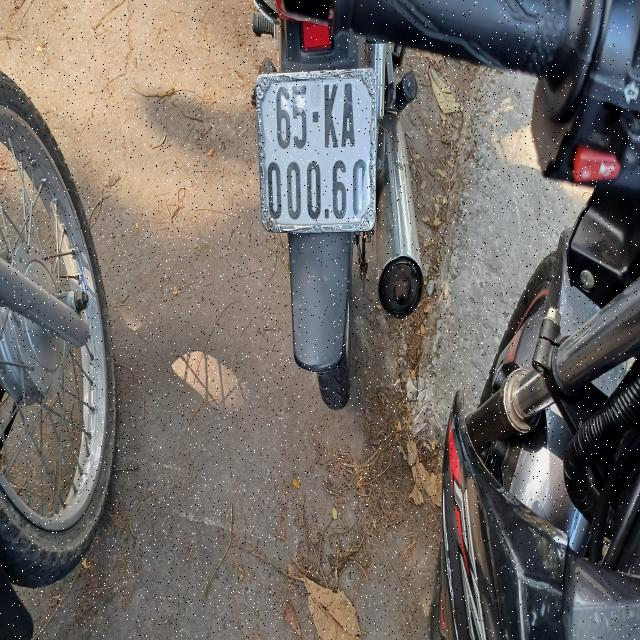0: (286, 160, 303, 222), (266, 162, 284, 220), (306, 158, 322, 220), (353, 159, 368, 219)
5: (292, 85, 308, 149)
6: (273, 85, 292, 150), (333, 160, 349, 219)
A: (338, 84, 358, 150)
K: (322, 81, 339, 150)
